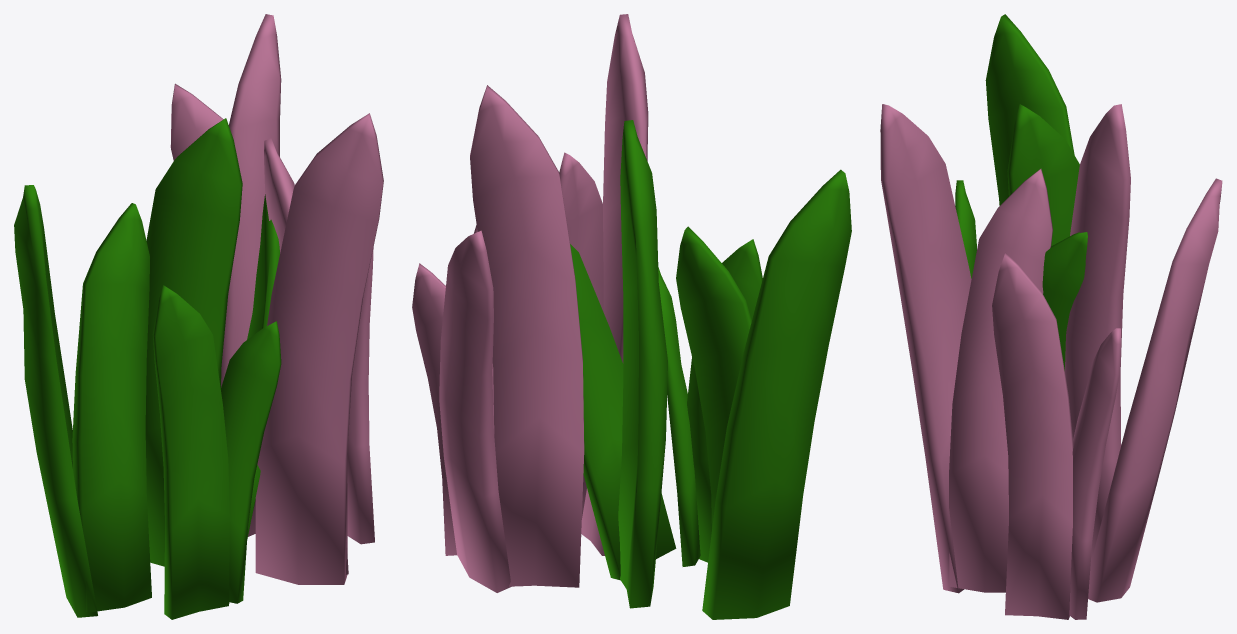
Rendered from grass-21_col.fbx.
3 views of the same model, side by side, from view 1: azimuth 30°, elevation 25°; view 2: azimuth 150°, elevation 25°; view 3: azimuth 270°, elevation 25° (orthographic).
Parts seen in each view (by area): view 1: grass-21.col; view 2: grass-21.col; view 3: grass-21.col.
Part boxes in pixels (x1=…): grass-21.col: x1=14, y1=14, x2=383, y2=619; grass-21.col: x1=412, y1=14, x2=851, y2=619; grass-21.col: x1=880, y1=14, x2=1222, y2=619.
Size of the model in its own units: 0.1003 by 0.1269 by 0.0799.
1 material, 1 textured.
